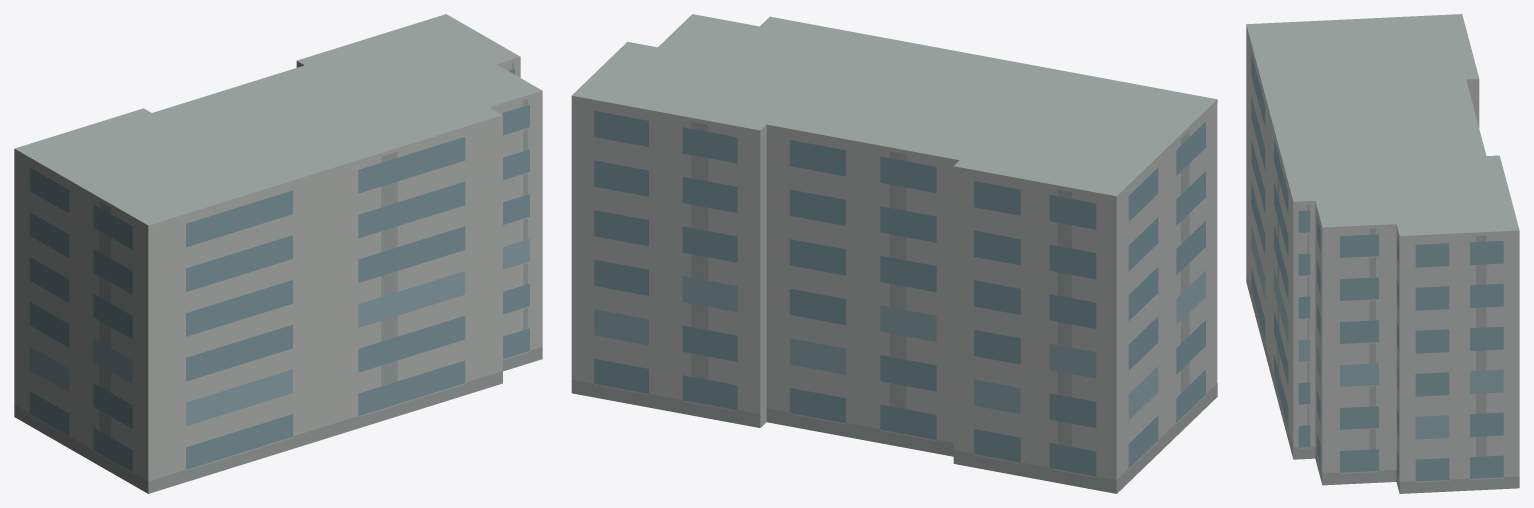
File: survey-upis-32981970.glb
3 views of the same model, side by side, from view 1: azimuth 30°, elevation 25°; view 2: azimuth 150°, elevation 25°; view 3: azimuth 270°, elevation 25° (orthographic). The views are drawn at different scales.
Visible parts, largest first — view 1: survey-upis-32981970.tmp; view 2: survey-upis-32981970.tmp; view 3: survey-upis-32981970.tmp.
Part boxes in pixels (<box>): survey-upis-32981970.tmp: <box>14,14,542,493</box>; survey-upis-32981970.tmp: <box>571,14,1217,493</box>; survey-upis-32981970.tmp: <box>1246,14,1519,493</box>.
Bounding box in the file's own units: 32.71 × 17.7 × 17.02.
